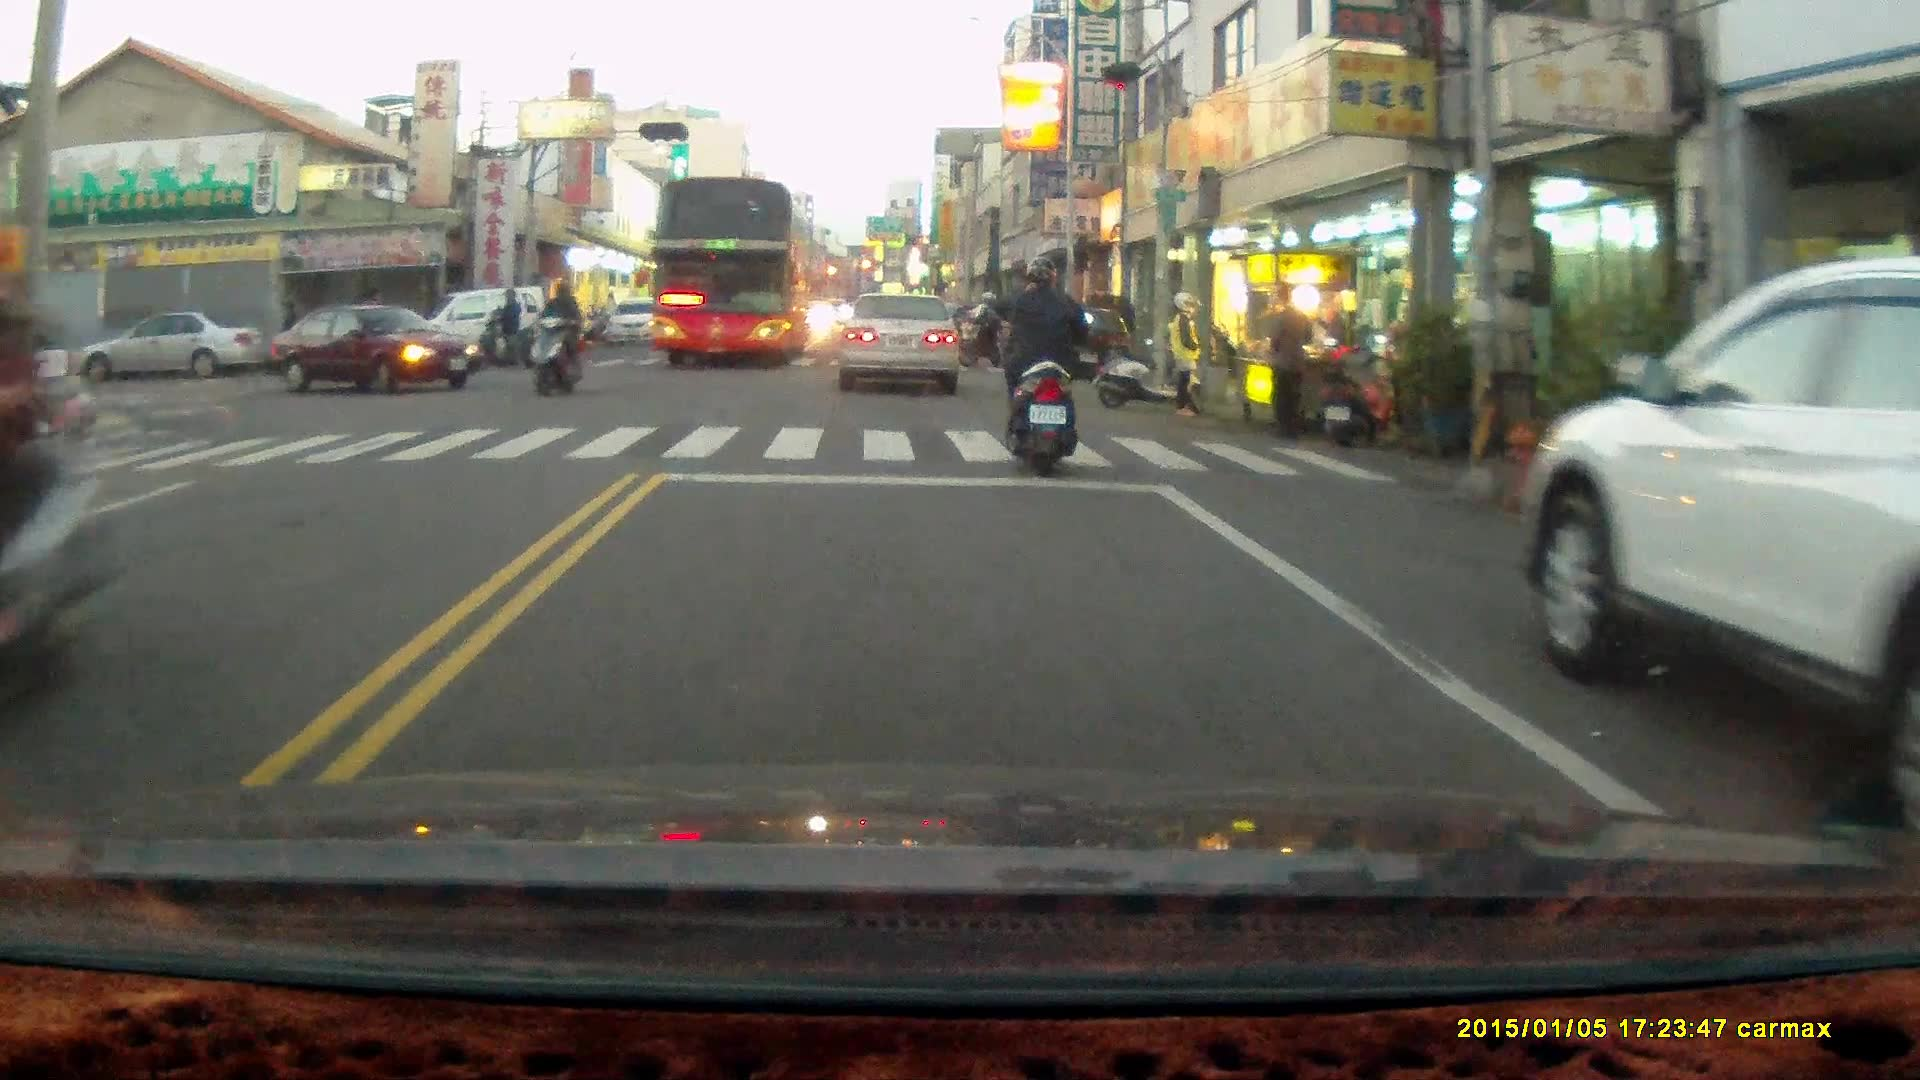pedestrian: (1264, 281, 1311, 440), (1163, 282, 1202, 414)
rider: (0, 249, 120, 693), (991, 246, 1096, 471), (530, 275, 584, 399), (472, 284, 533, 366), (957, 288, 1013, 369)
vehicle: (1511, 258, 1920, 830), (650, 178, 810, 373), (272, 301, 477, 393), (66, 311, 250, 389), (838, 290, 965, 397), (416, 287, 559, 372), (1040, 302, 1138, 377), (606, 297, 672, 347)
